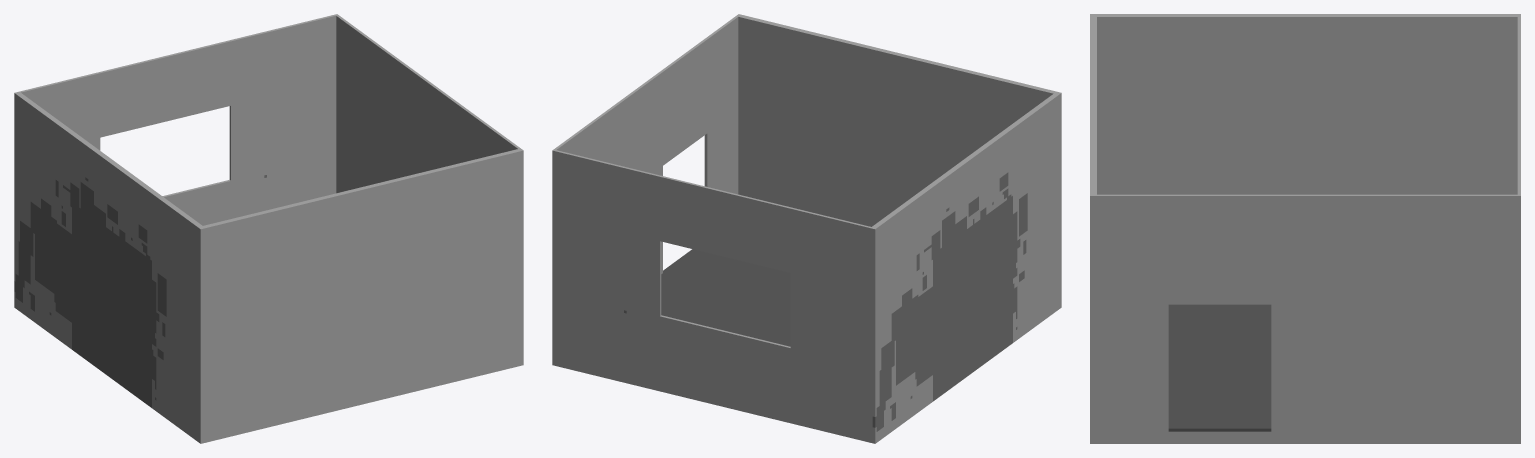
File: 4x2 first-1.obj
3 views of the same model, side by side, from view 1: azimuth 30°, elevation 25°; view 2: azimuth 150°, elevation 25°; view 3: azimuth 270°, elevation 25° (orthographic). The views are drawn at different scales.
Parts seen in each view (by area): view 1: 4x2 first-1; view 2: 4x2 first-1; view 3: 4x2 first-1.
Boxes of the visible parts, x1=… form: 4x2 first-1: x1=14, y1=14, x2=523, y2=443; 4x2 first-1: x1=552, y1=14, x2=1061, y2=443; 4x2 first-1: x1=1090, y1=14, x2=1520, y2=443.
Bounding box in the file's own units: 126 × 80 × 126.
Materials: 1 (1 with a texture image).
